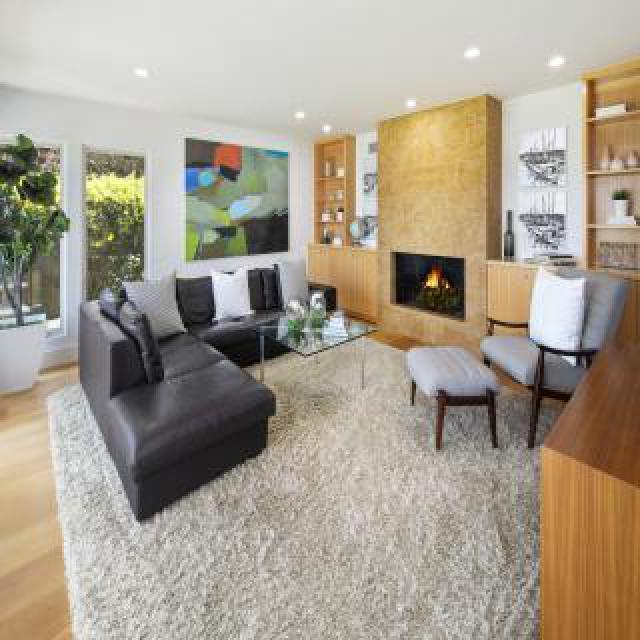Fire: (418, 262, 448, 298)
